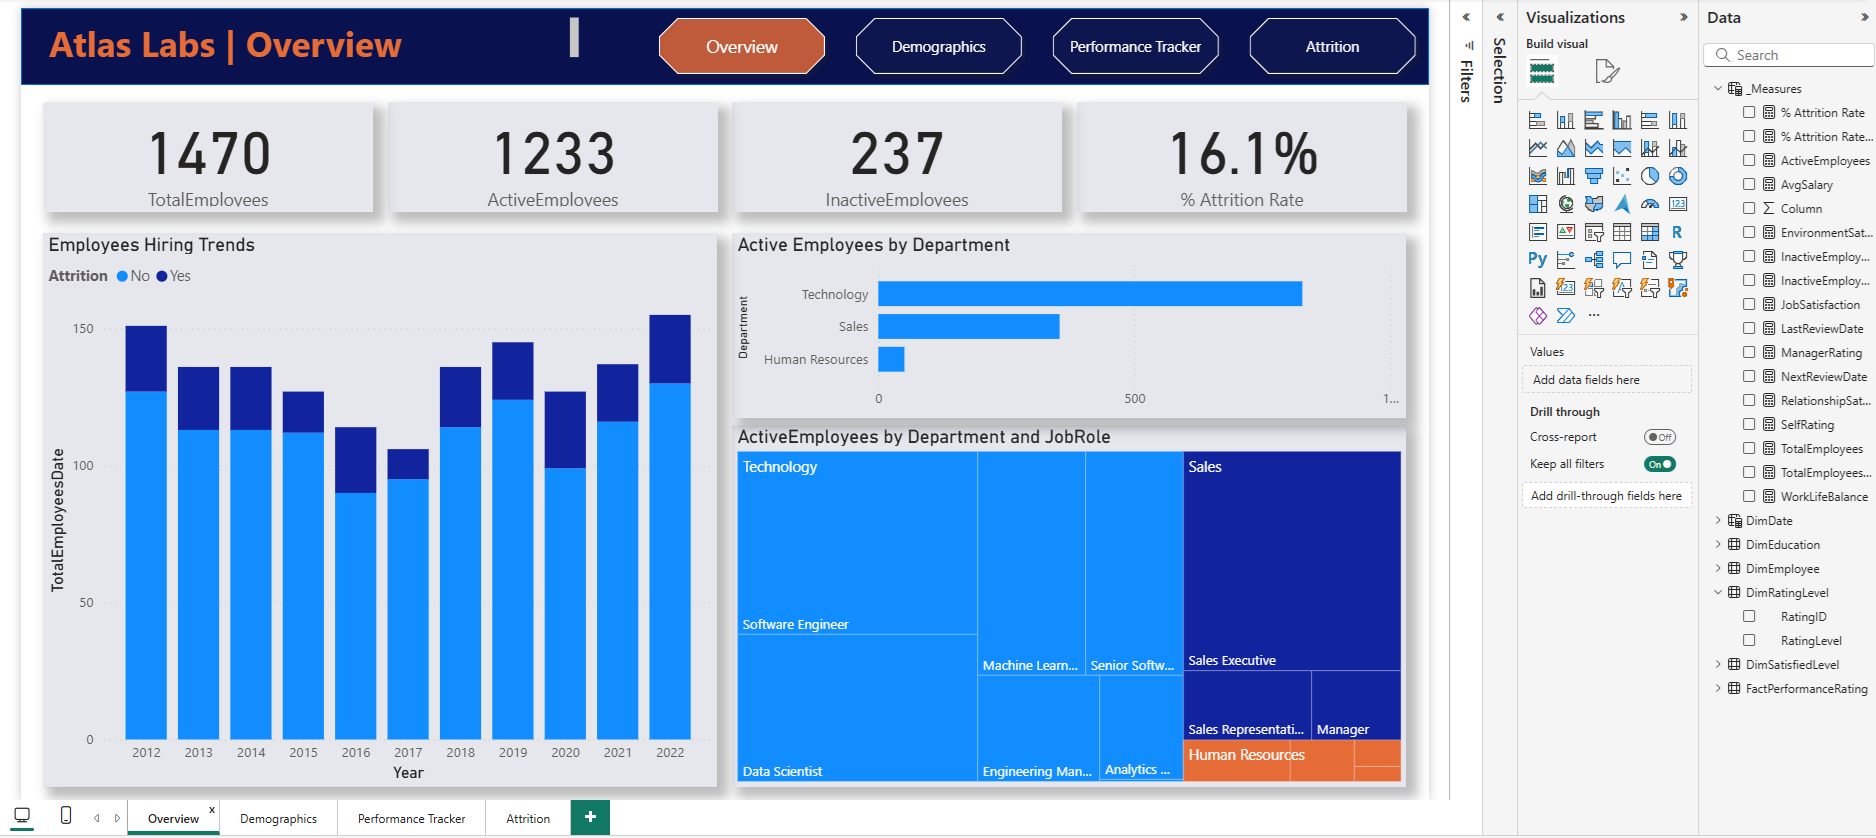

What the dashboard file says about the page in this screenshot:
{"tool":"powerbi","page":{"name":"Overview","canvas":[1280,720],"ordinal":0},"visuals":[{"type":"card","fields":{"Values":["_Measures.TotalEmployees"]},"box":[20,85,300,100],"z":0},{"type":"card","fields":{"Values":["_Measures.ActiveEmployees"]},"box":[333.4,85,299.9,99.7],"z":1000},{"type":"card","fields":{"Values":["_Measures.InactiveEmployees"]},"box":[646.7,85,299.9,99.7],"z":2000},{"type":"card","fields":{"Values":["_Measures.% Attrition Rate"]},"box":[960,85,299.9,99.7],"z":3000},{"type":"columnChart","title":"Employees Hiring Trends","fields":{"Y":["_Measures.TotalEmployeesDate"],"Series":["DimEmployee.Attrition"],"Category":["DimDate.Date.Variation.Date Hierarchy.Year"]},"box":[20.1,204.8,613.5,503.8],"z":4000},{"type":"clusteredBarChart","title":"Active Employees by Department","fields":{"Y":["_Measures.ActiveEmployees"],"Category":["DimEmployee.Department"]},"box":[646.4,204.8,613.5,168.2],"z":5000},{"type":"treemap","fields":{"Values":["_Measures.ActiveEmployees"],"Group":["DimEmployee.Department"],"Details":["DimEmployee.JobRole"]},"box":[646.4,379.4,613.5,329.1],"z":6000},{"type":"shape","box":[0,0,1280,70],"z":7000},{"type":"textbox","box":[20.1,3.7,491.9,63.1],"z":8000},{"type":"pageNavigator","box":[570.6,0,709.1,69.7],"z":9000}]}

Visuals, with their boxes on the page's 1280x720 design canvas (x1, y1, x2, y2). These are canvas units, not pixel positions in the 1876x838 screenshot, which may show the page scaled, cropped or inside an application window:
card - _Measures.TotalEmployees: select_region(20, 85, 320, 185)
card - _Measures.ActiveEmployees: select_region(333, 85, 633, 185)
card - _Measures.InactiveEmployees: select_region(647, 85, 947, 185)
card - _Measures.% Attrition Rate: select_region(960, 85, 1260, 185)
"Employees Hiring Trends" columnChart: select_region(20, 205, 634, 709)
"Active Employees by Department" clusteredBarChart: select_region(646, 205, 1260, 373)
treemap - _Measures.ActiveEmployees x DimEmployee.Department: select_region(646, 379, 1260, 708)
shape: select_region(0, 0, 1280, 70)
textbox: select_region(20, 4, 512, 67)
pageNavigator: select_region(571, 0, 1280, 70)
